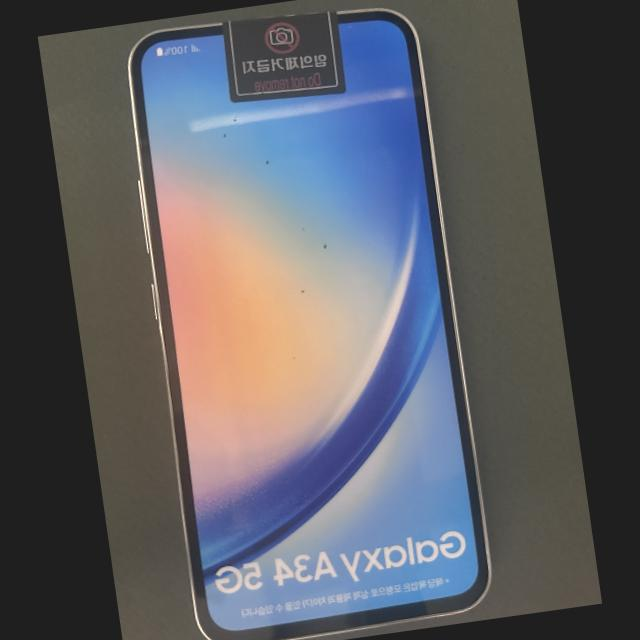phone: (129, 10, 489, 639)
sticker: (221, 10, 347, 103)
